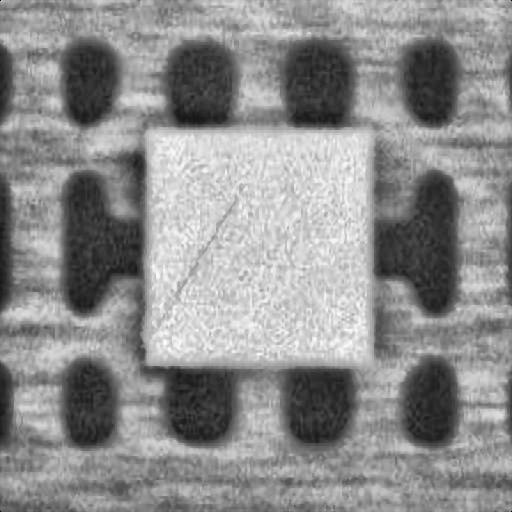DIE_CRACK: (223, 120, 363, 224)
